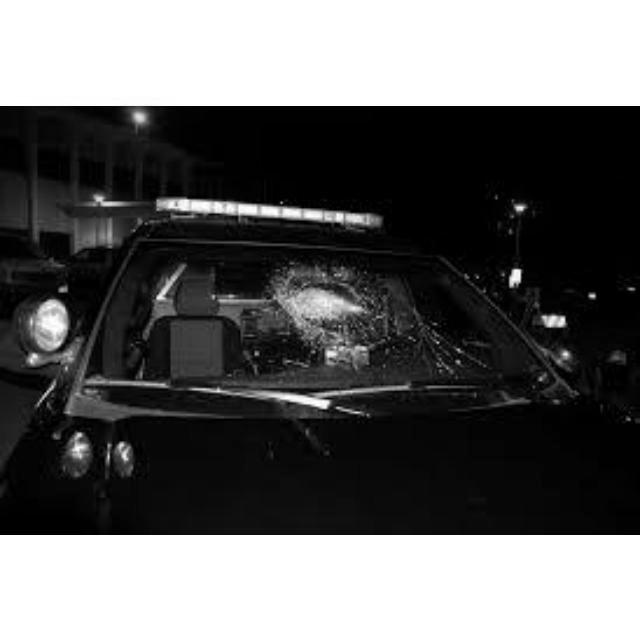Front-windscreen-damage: (207, 215, 470, 387)
